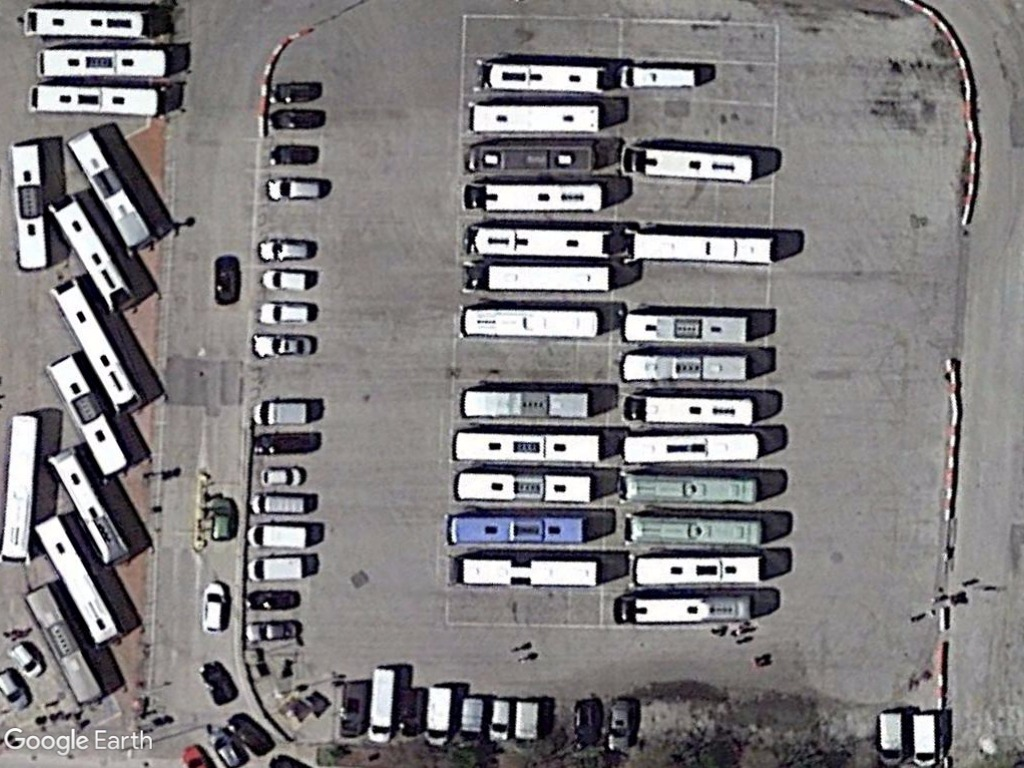bus: (46, 270, 144, 412), (31, 510, 131, 644), (41, 349, 139, 477), (62, 127, 157, 254), (42, 445, 138, 569), (47, 190, 145, 308), (23, 580, 113, 708), (618, 219, 780, 269), (0, 408, 46, 575), (618, 139, 762, 188), (620, 507, 769, 552), (459, 221, 617, 262), (447, 551, 605, 592), (7, 138, 54, 274), (618, 428, 766, 470), (26, 77, 171, 119), (464, 96, 610, 137), (472, 55, 614, 97), (16, 2, 164, 42), (608, 470, 768, 507), (456, 260, 615, 297), (449, 467, 596, 507), (456, 304, 606, 343), (616, 305, 756, 346), (441, 510, 592, 548), (31, 42, 180, 80), (612, 349, 756, 388), (457, 383, 597, 423), (622, 552, 772, 589), (460, 139, 601, 178), (457, 178, 609, 214), (447, 430, 607, 464), (610, 591, 757, 628), (618, 393, 762, 428), (614, 62, 705, 94)
car: (264, 172, 329, 203), (256, 235, 316, 266), (199, 577, 228, 640), (256, 266, 319, 295), (244, 614, 302, 644), (483, 693, 514, 747), (254, 300, 320, 325), (210, 493, 240, 546), (0, 665, 30, 716), (7, 641, 44, 681), (257, 463, 311, 489)
van: (366, 664, 399, 748), (244, 519, 319, 551), (243, 555, 315, 584), (252, 397, 321, 427), (424, 681, 453, 752), (248, 489, 320, 517), (876, 707, 906, 768), (909, 708, 939, 768), (457, 692, 487, 752), (511, 697, 542, 752)
